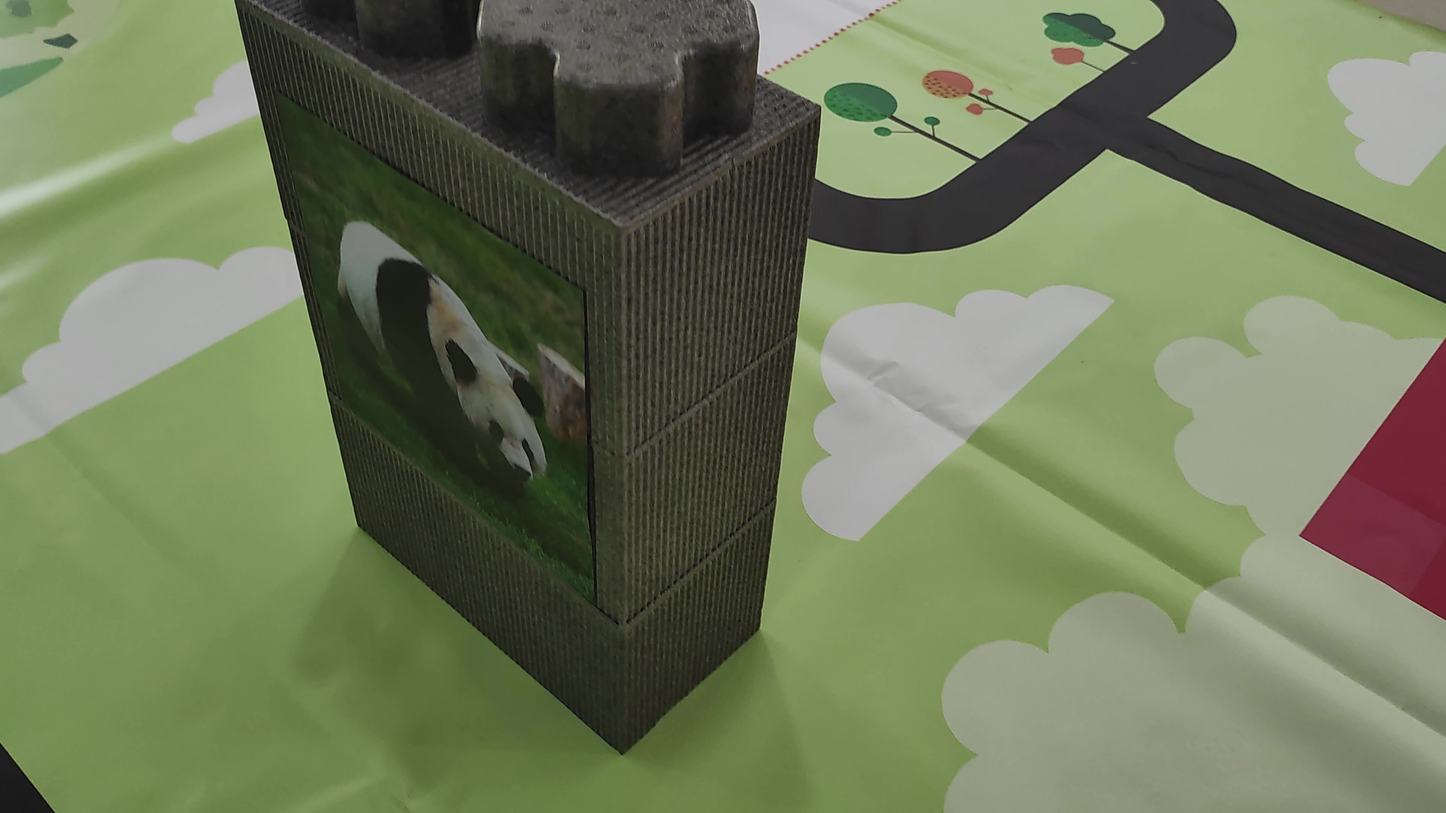panda: (317, 206, 544, 501)
